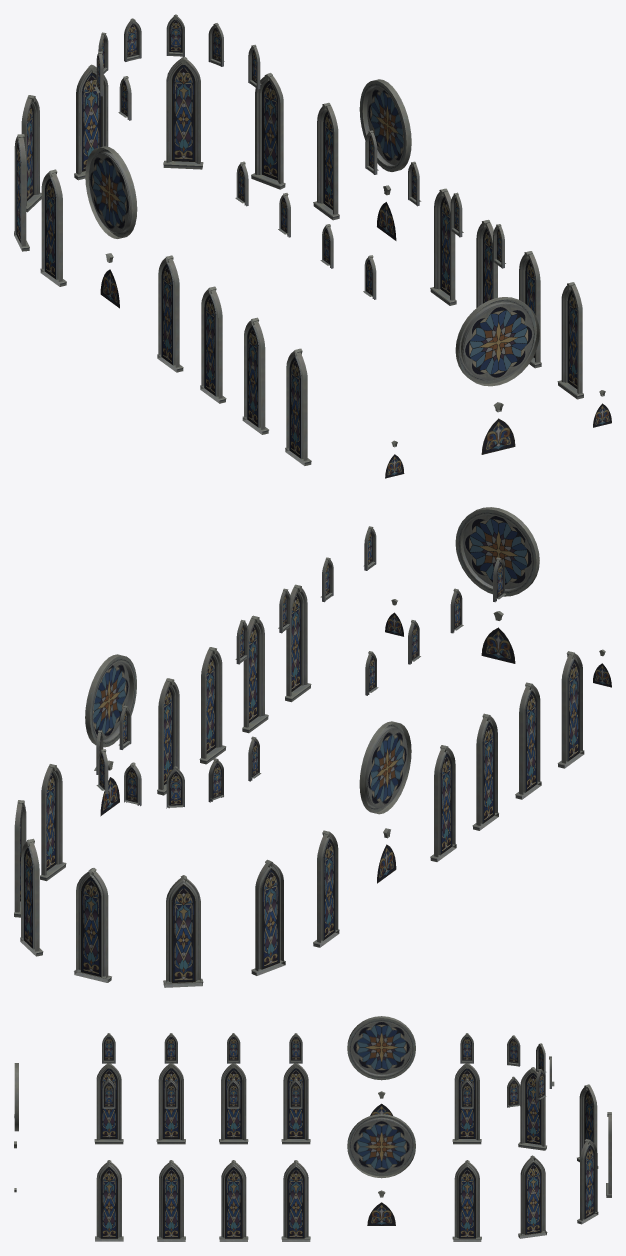
Rendered from Indoor_MdBuild_Church01_1191_0.fbx.
The picture shows the model from 3 angles, top to bottom: view 1: azimuth 30°, elevation 25°; view 2: azimuth 150°, elevation 25°; view 3: azimuth 270°, elevation 25°; orthographic projection. The views are drawn at different scales.
Visible parts, largest first — view 1: Indoor_MdBuild_Church01_1191_0; view 2: Indoor_MdBuild_Church01_1191_0; view 3: Indoor_MdBuild_Church01_1191_0.
Boxes of the visible parts, <box> form: Indoor_MdBuild_Church01_1191_0: <box>14,14,611,478</box>; Indoor_MdBuild_Church01_1191_0: <box>14,507,611,987</box>; Indoor_MdBuild_Church01_1191_0: <box>14,1016,611,1241</box>.
Size of the model in its own units: 30.45 by 19.2 by 76.75.
